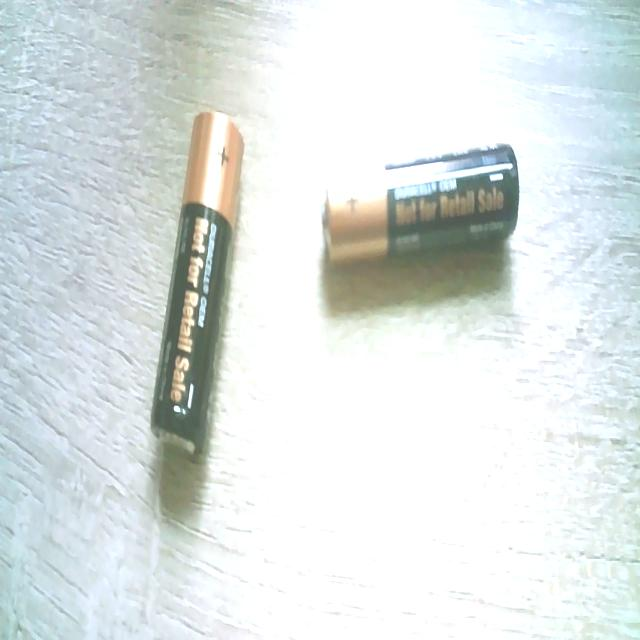AA: (149, 109, 245, 457), (322, 140, 520, 268)
